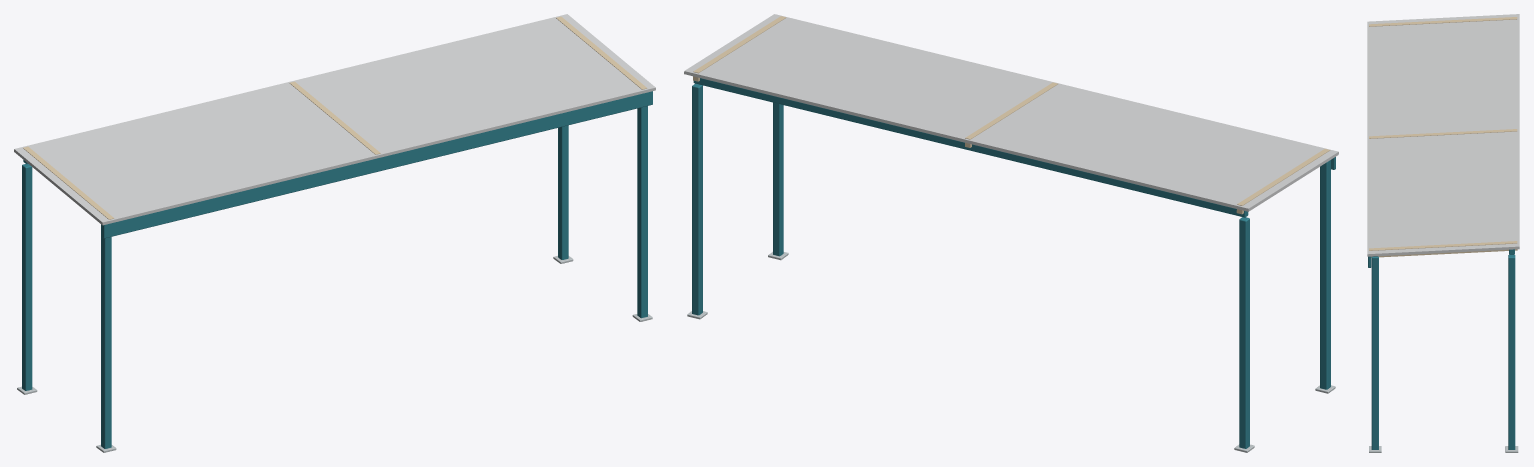
File: bicycle-shop-and-repair-cafe-covered-repair-cafe-terra-5180c395__32381.glb
3 renders of one model, left to right at view 1: azimuth 30°, elevation 25°; view 2: azimuth 150°, elevation 25°; view 3: azimuth 270°, elevation 25°, orthographic. The views are drawn at different scales.
Visible parts, largest first — view 1: covered-repair-cafe-terrace; view 2: covered-repair-cafe-terrace; view 3: covered-repair-cafe-terrace.
Boxes of the visible parts, left/top/right/bottom form: covered-repair-cafe-terrace: left=14, top=14, right=655, bottom=452; covered-repair-cafe-terrace: left=684, top=14, right=1338, bottom=452; covered-repair-cafe-terrace: left=1367, top=14, right=1519, bottom=452.
Bounding box in the file's own units: 6.85 × 2.85 × 1.9.
